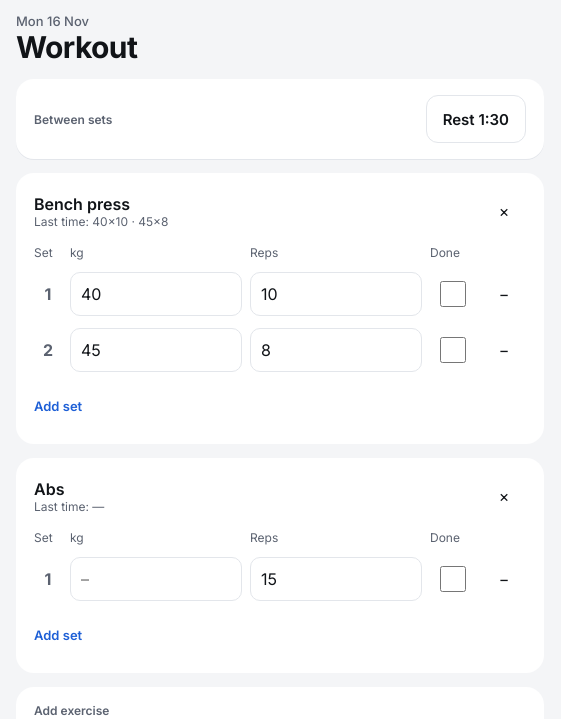
Test case: reps must be whole numbers
This screenshot has width=561, height=719.
Replace the text in the field named "Set 1 reps" below "Last time: 40×10 · 45×8" with "8.5" at (336,294), box [250,272,422,316]
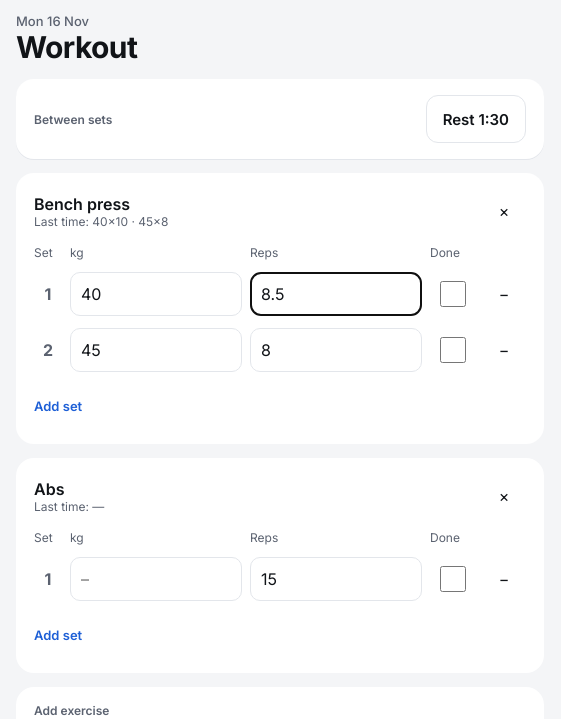
Click the 1st checkbox named "Set 1 done" at (452,294), box [440,281,466,307]
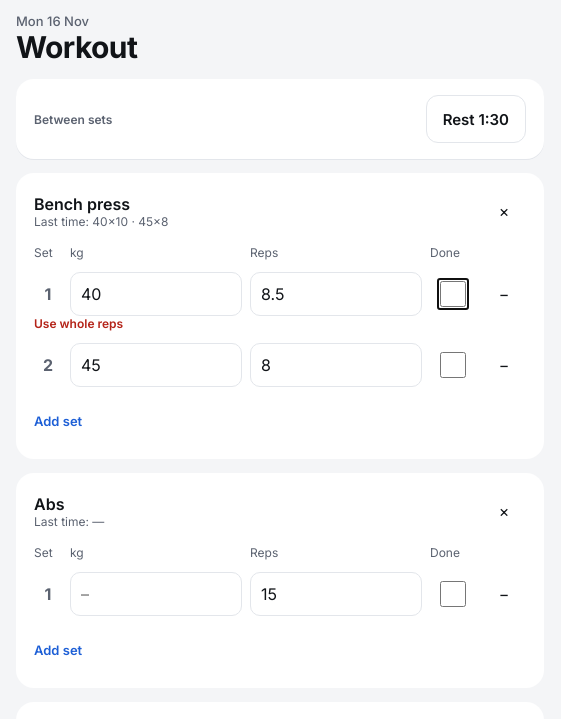
Now the text "Use whole reps" is shown, box [34,316,123,331]
